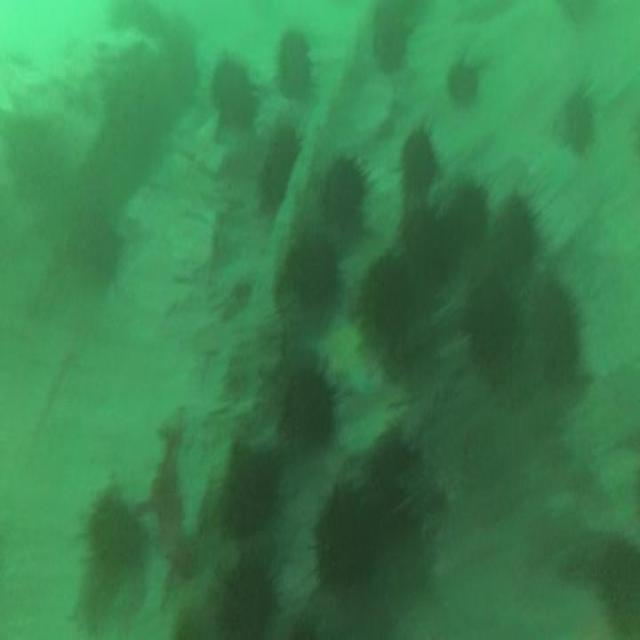echinus: (516, 275, 582, 374), (358, 253, 415, 355), (314, 498, 375, 589), (466, 280, 518, 379), (88, 491, 147, 577), (223, 450, 280, 536), (220, 561, 276, 640), (279, 368, 335, 446), (367, 432, 413, 526), (394, 208, 444, 284), (290, 234, 338, 313), (496, 194, 539, 274), (210, 63, 254, 130), (320, 160, 365, 224), (260, 127, 300, 199), (448, 184, 491, 246), (401, 128, 436, 201), (373, 11, 408, 76), (278, 32, 310, 98), (566, 92, 596, 156), (447, 60, 477, 108)
starfish: (316, 314, 372, 400)
